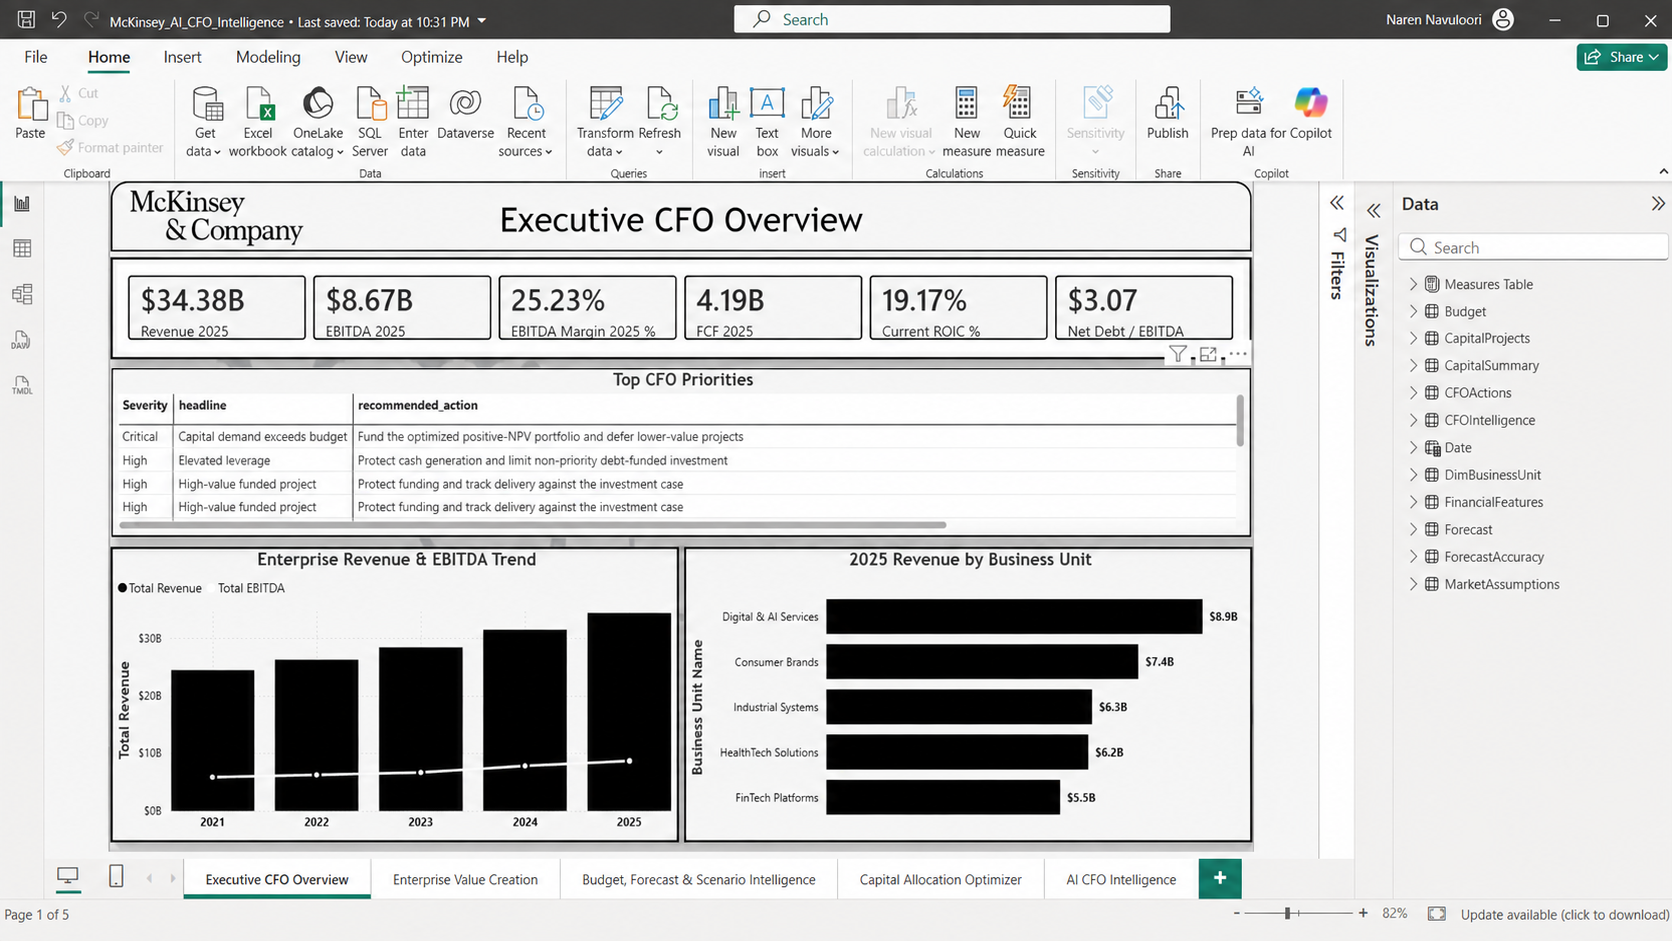

What the dashboard file says about the page in this screenshot:
{"tool":"powerbi","page":{"name":"Executive CFO Overview","canvas":[1280,720],"ordinal":0},"visuals":[{"type":"shape","box":[0,0,1280.3,75.8],"z":0},{"type":"image","box":[14,5.1,207.4,66.2],"z":1000},{"type":"cardVisual","fields":{"Data":["Measures Table.Revenue 2025","Measures Table.EBITDA 2025","Measures Table.EBITDA Margin 2025 %","Measures Table.FCF 2025","Measures Table.Current ROIC %","Measures Table.Net Debt / EBITDA"]},"box":[0,81.4,1280.3,110.7],"z":2000},{"type":"lineClusteredColumnComboChart","title":"Enterprise Revenue & EBITDA Trend","fields":{"Y":["Measures Table.Total Revenue"],"Category":["Date.Year"],"Y2":["Measures Table.Total EBITDA"]},"box":[0,393.2,637.6,318.2],"z":3000},{"type":"clusteredBarChart","title":"2025 Revenue by Business Unit","fields":{"Y":["Measures Table.Revenue 2025"],"Category":["DimBusinessUnit.business_unit_name"]},"box":[642.7,393.2,637.6,318.2],"z":4000},{"type":"tableEx","title":"Top CFO Priorities","fields":{"Values":["CFOActions.severity","CFOActions.headline","CFOActions.recommended_action","Sum(CFOActions.priority_rank)","CFOActions.entity_name"]},"box":[0,201.1,1280.3,183.3],"z":5000}]}

Visuals, with their boxes on the page's 1280x720 design canvas (x1, y1, x2, y2). These are canvas units, not pixel positions in the 1672x941 screenshot, which may show the page scaled, cropped or inside an application window:
shape: left=0, top=0, right=1280, bottom=76
image: left=14, top=5, right=221, bottom=71
cardVisual - Measures Table.Revenue 2025 x Measures Table.EBITDA 2025: left=0, top=81, right=1280, bottom=192
"Enterprise Revenue & EBITDA Trend" lineClusteredColumnComboChart: left=0, top=393, right=638, bottom=711
"2025 Revenue by Business Unit" clusteredBarChart: left=643, top=393, right=1280, bottom=711
"Top CFO Priorities" tableEx: left=0, top=201, right=1280, bottom=384
